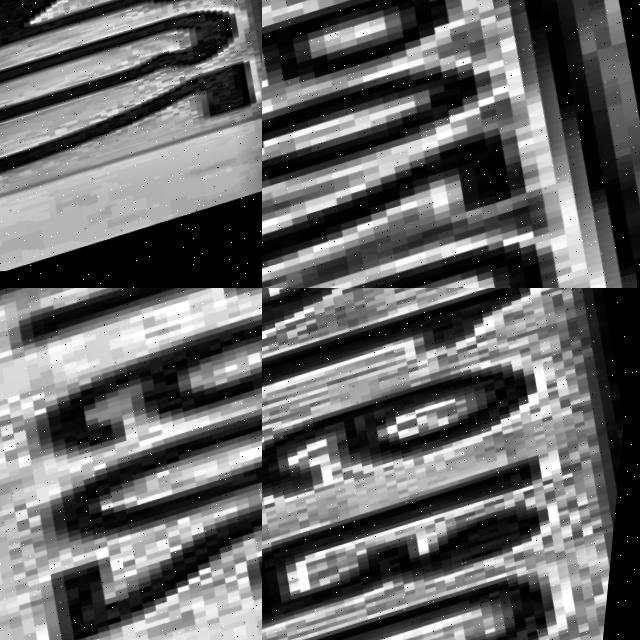license-plate: (262, 288, 640, 640), (262, 0, 640, 288), (0, 288, 262, 640), (0, 0, 262, 288)
